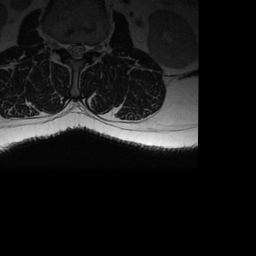CCS_stenosis: (72, 36, 78, 63)
LFS_stenosis: (86, 36, 94, 59)
LLS_normal: (79, 36, 86, 61)
RFS_stenosis: (56, 34, 64, 54)
RLS_normal: (64, 35, 72, 58)
